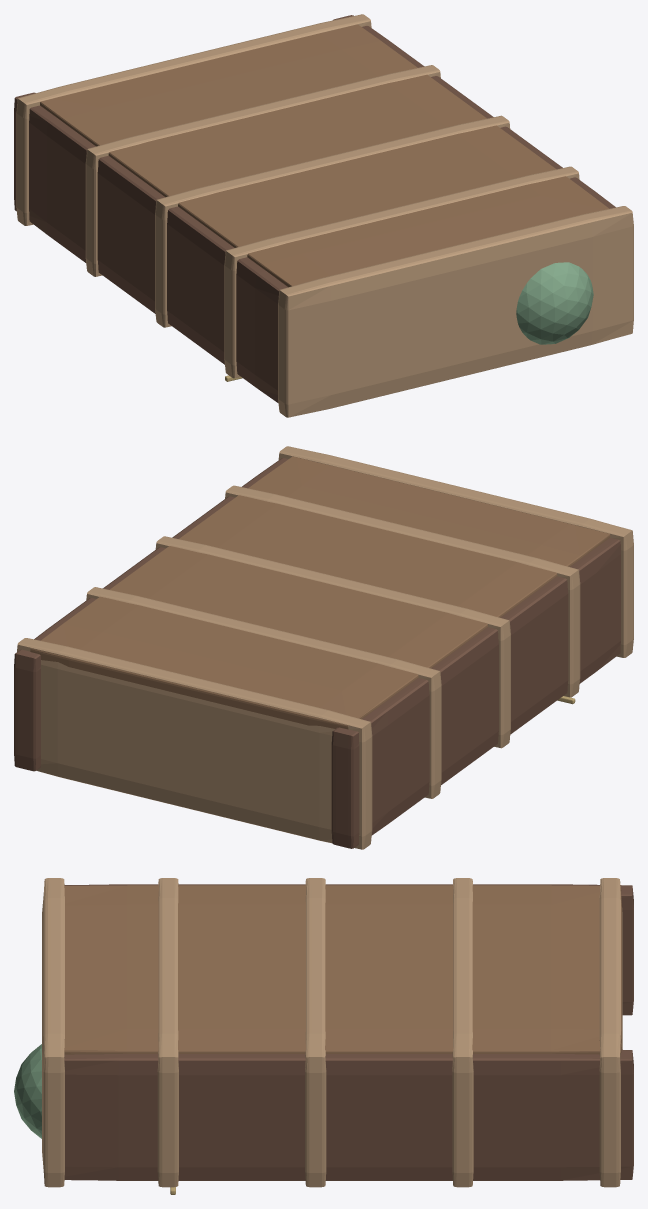
Rendered from bookshelf.glb.
3 renders of one model, top to bottom at view 1: azimuth 30°, elevation 25°; view 2: azimuth 150°, elevation 25°; view 3: azimuth 270°, elevation 25°, orthographic. The views are drawn at different scales.
Visible parts, largest first — view 1: Back_Panel, Top_Shelf, Left_Panel, Bottom_Shelf, Upper_Shelf, Lower_Shelf, Middle_Shelf, Plant_Foliage, Right_Panel; view 2: Back_Panel, Bottom_Shelf, Left_Panel, Top_Shelf, Upper_Shelf, Lower_Shelf, Middle_Shelf, Right_Panel; view 3: Back_Panel, Right_Panel, Top_Shelf, Bottom_Shelf, Upper_Shelf, Middle_Shelf, Lower_Shelf, Left_Panel, Plant_Foliage.
Part boxes in pixels (x1=…): Back_Panel: x1=40, y1=24, x2=609, y2=287; Top_Shelf: x1=278, y1=206, x2=633, y2=417; Left_Panel: x1=14, y1=92, x2=287, y2=403; Bottom_Shelf: x1=16, y1=14, x2=371, y2=225; Upper_Shelf: x1=224, y1=166, x2=579, y2=378; Lower_Shelf: x1=85, y1=65, x2=440, y2=276; Middle_Shelf: x1=155, y1=115, x2=510, y2=327; Plant_Foliage: x1=516, y1=262, x2=593, y2=344; Right_Panel: x1=332, y1=15, x2=615, y2=208; Back_Panel: x1=30, y1=456, x2=610, y2=729; Bottom_Shelf: x1=17, y1=638, x2=372, y2=849; Left_Panel: x1=331, y1=538, x2=620, y2=848; Top_Shelf: x1=278, y1=446, x2=633, y2=657; Upper_Shelf: x1=225, y1=485, x2=580, y2=697; Lower_Shelf: x1=86, y1=587, x2=441, y2=798; Middle_Shelf: x1=155, y1=536, x2=510, y2=748; Right_Panel: x1=14, y1=458, x2=288, y2=771; Back_Panel: x1=64, y1=885, x2=621, y2=1054; Right_Panel: x1=64, y1=1049, x2=633, y2=1180; Top_Shelf: x1=42, y1=878, x2=64, y2=1187; Bottom_Shelf: x1=599, y1=878, x2=622, y2=1187; Upper_Shelf: x1=157, y1=878, x2=178, y2=1187; Middle_Shelf: x1=305, y1=878, x2=326, y2=1187; Lower_Shelf: x1=452, y1=878, x2=473, y2=1187; Left_Panel: x1=64, y1=884, x2=633, y2=1015; Plant_Foliage: x1=14, y1=1044, x2=41, y2=1138.
Size of the model in its own units: 1.8 by 0.6485 by 2.61.
